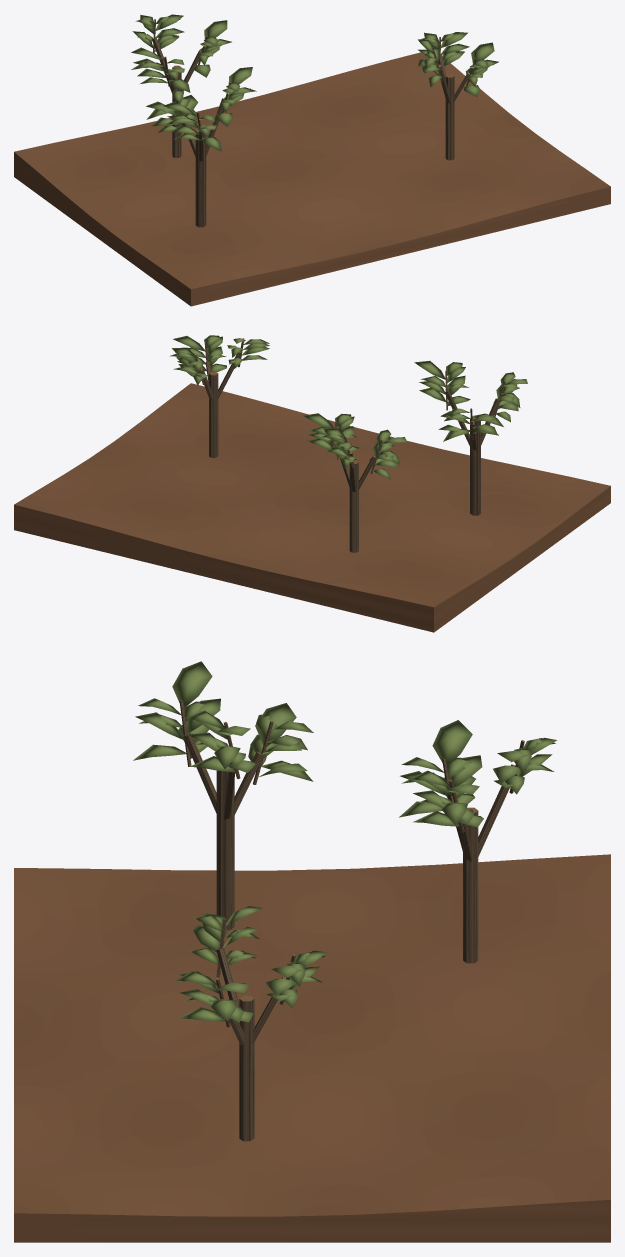
File: dubai.glb
The picture shows the model from 3 angles, top to bottom: view 1: azimuth 30°, elevation 25°; view 2: azimuth 150°, elevation 25°; view 3: azimuth 270°, elevation 25°; orthographic projection. The views are drawn at different scales.
Visible parts, largest first — view 1: dubai; view 2: dubai; view 3: dubai.
Part boxes in pixels (x1,y1,x2,y2): dubai: (14, 14, 610, 306); dubai: (14, 335, 610, 632); dubai: (14, 661, 610, 1242).
Bounding box in the file's own units: 7.21 × 2.6 × 5.26.
1 material, 1 textured.
